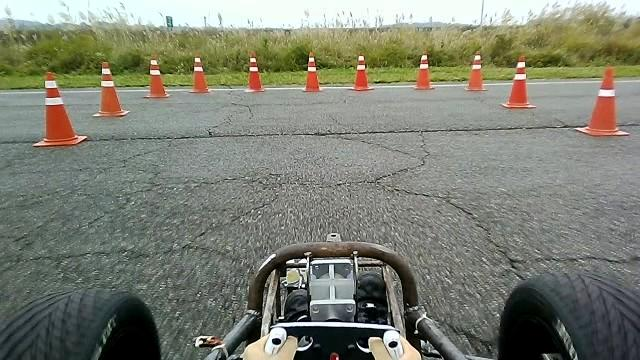red cone: (32, 71, 87, 147), (574, 65, 630, 136), (92, 61, 130, 117), (499, 55, 536, 108), (346, 51, 374, 90), (143, 58, 170, 98), (464, 50, 488, 91), (412, 50, 435, 90), (302, 51, 323, 92), (244, 52, 265, 92), (188, 55, 210, 93)
